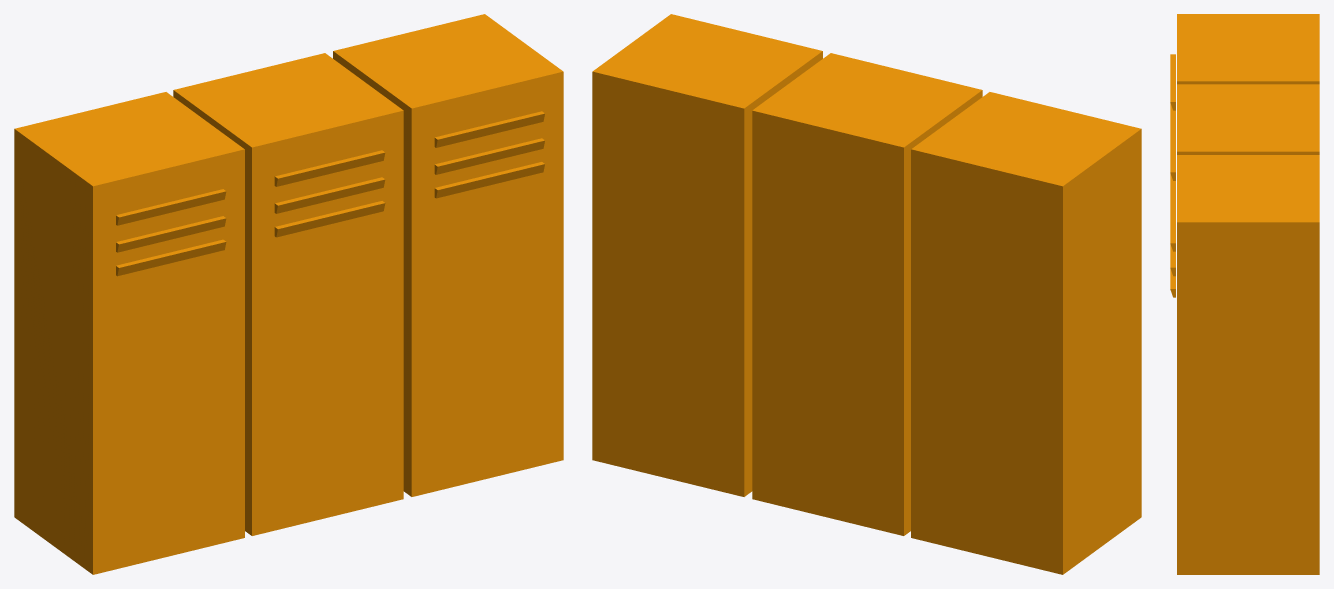
The picture shows the model from 3 angles, left to right: view 1: azimuth 30°, elevation 25°; view 2: azimuth 150°, elevation 25°; view 3: azimuth 270°, elevation 25°; orthographic projection. The views are drawn at different scales.
Visible parts, largest first — view 1: OJ2_1; view 2: OJ2_1; view 3: OJ2_1.
Boxes of the visible parts, x1,y1,x2,y2 form: OJ2_1: (14, 14, 563, 574); OJ2_1: (592, 14, 1141, 574); OJ2_1: (1170, 14, 1319, 574).
Bounding box in the file's own units: 2.83 × 2.24 × 0.8594.
Materials: 1 (1 with a texture image).
